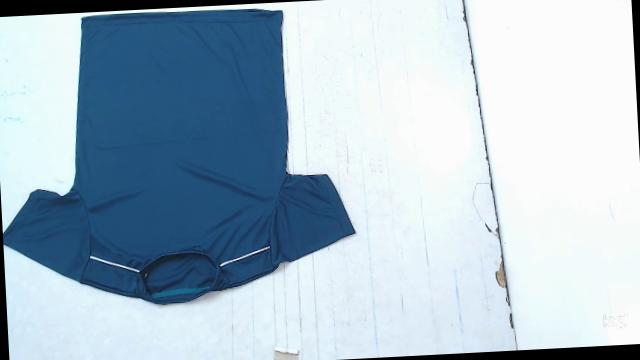new-garment: (2, 9, 354, 303)
